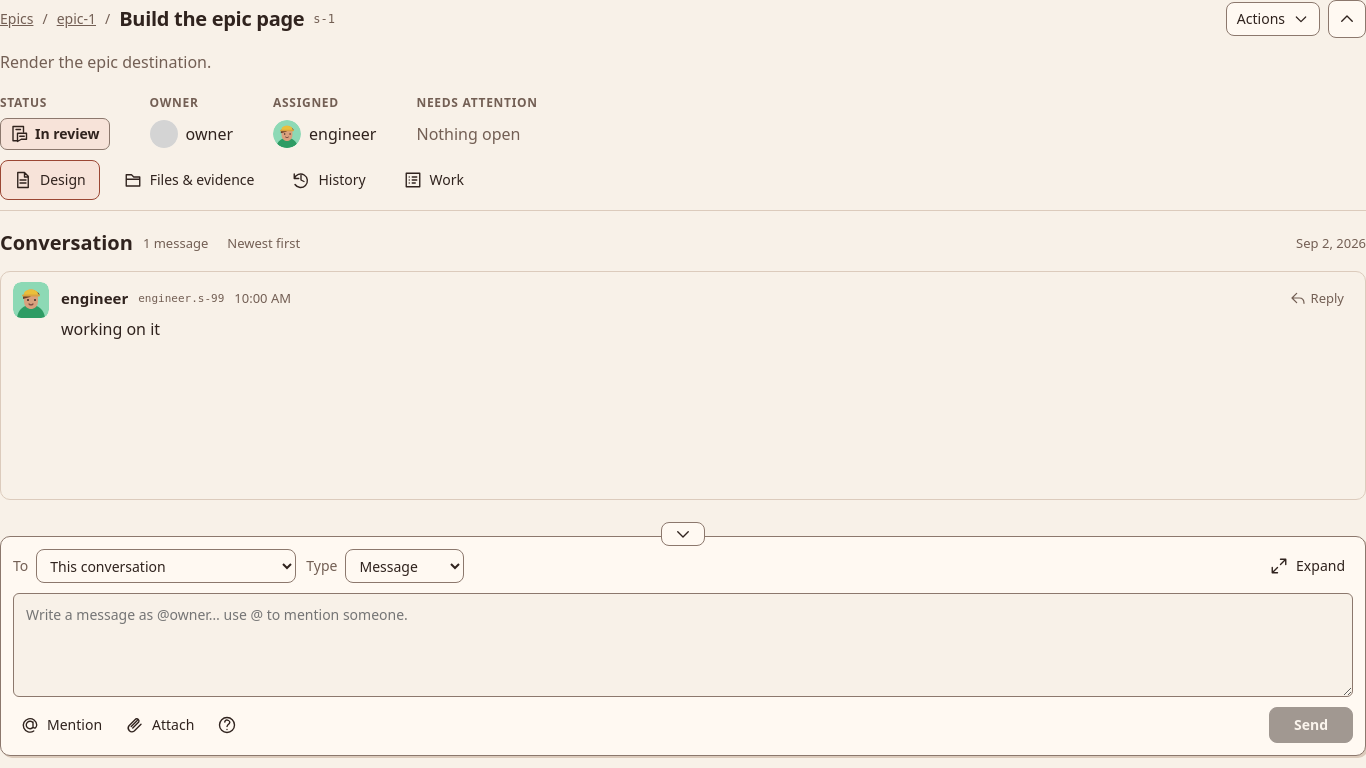
Test: TicketPage › offers the one-click verdict pane on a pending criterion that already has evidence (§16)
Click the button with test id "work-work": (434, 180) [390,160,478,200]
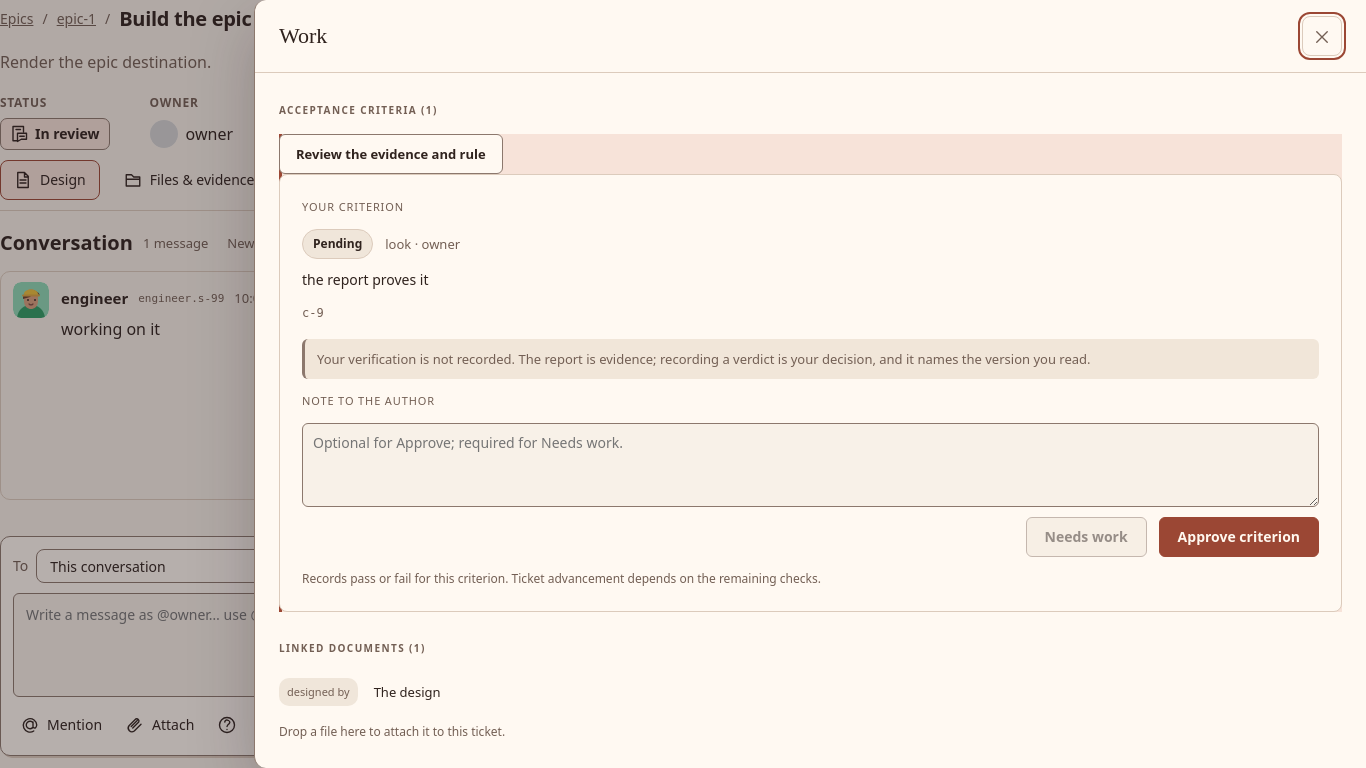
Expected: the text "the report proves it" is shown, [302,270,428,289]
Expected: the button with test id "approve" is shown, [1159,517,1319,557]
Expected: the button with test id "needs-work" is shown, [1026,517,1147,557]
